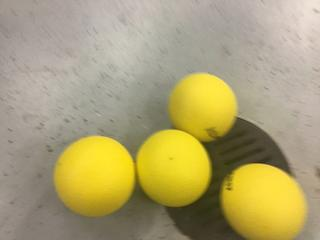power_cell: (223, 156, 310, 240), (54, 134, 137, 219), (135, 129, 216, 213), (168, 67, 240, 144)
